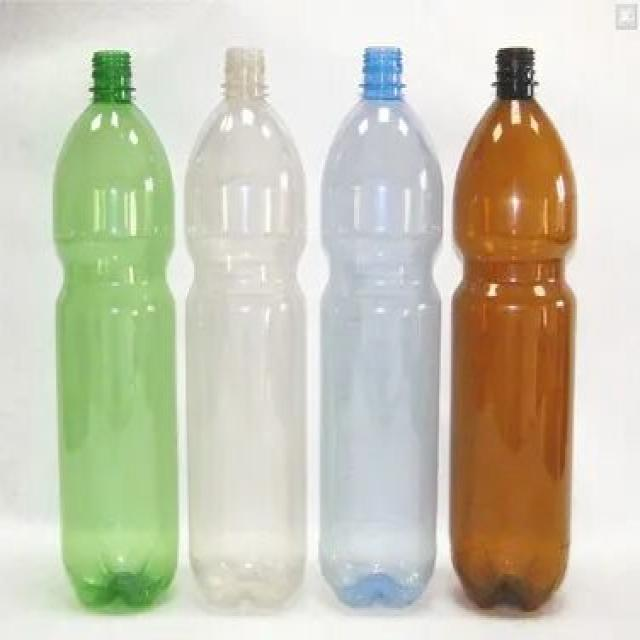blue: (316, 45, 440, 612)
brown: (450, 45, 570, 607)
green: (51, 51, 180, 606)
